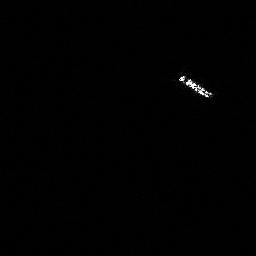ship: (178, 73, 215, 99)
